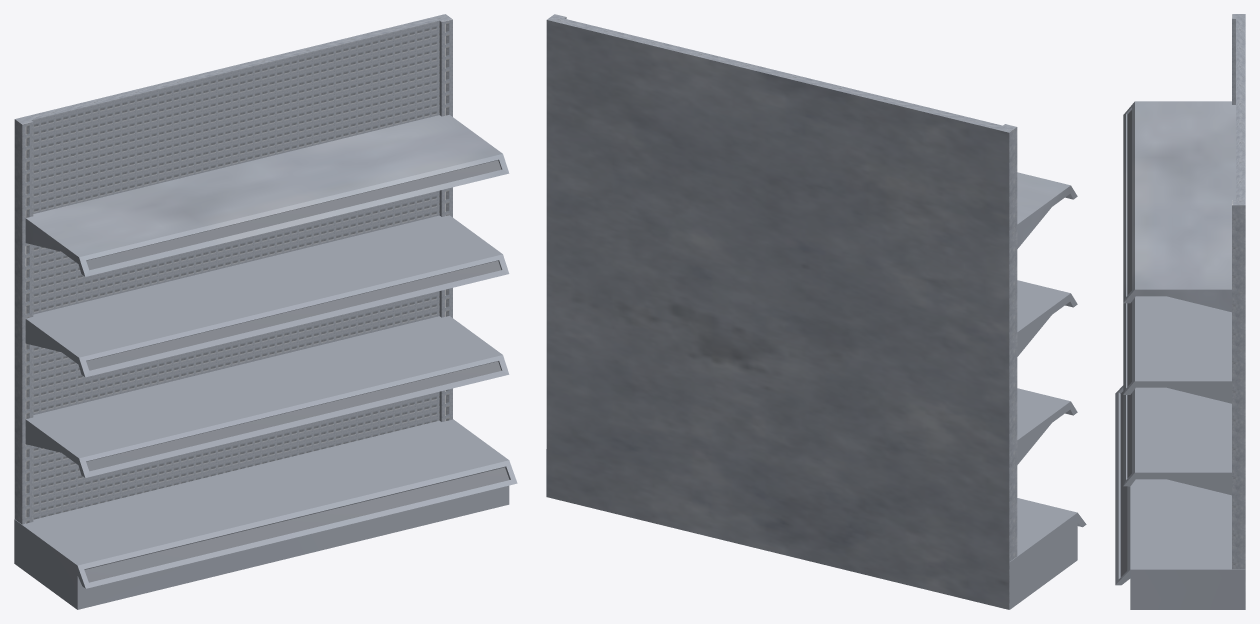
The model's file is Store_Shelving_Unit.fbx.
3 views of the same model, side by side, from view 1: azimuth 30°, elevation 25°; view 2: azimuth 150°, elevation 25°; view 3: azimuth 270°, elevation 25° (orthographic). The views are drawn at different scales.
Visible parts, largest first — view 1: Store_Shelving_Unit; view 2: Store_Shelving_Unit; view 3: Store_Shelving_Unit.
Part boxes in pixels (x1,y1,x2,y2): Store_Shelving_Unit: [14, 14, 517, 609]; Store_Shelving_Unit: [546, 14, 1086, 609]; Store_Shelving_Unit: [1115, 14, 1245, 609].
Size of the model in its own units: 202 by 199 by 58.16.
Materials: 1 (1 with a texture image).
